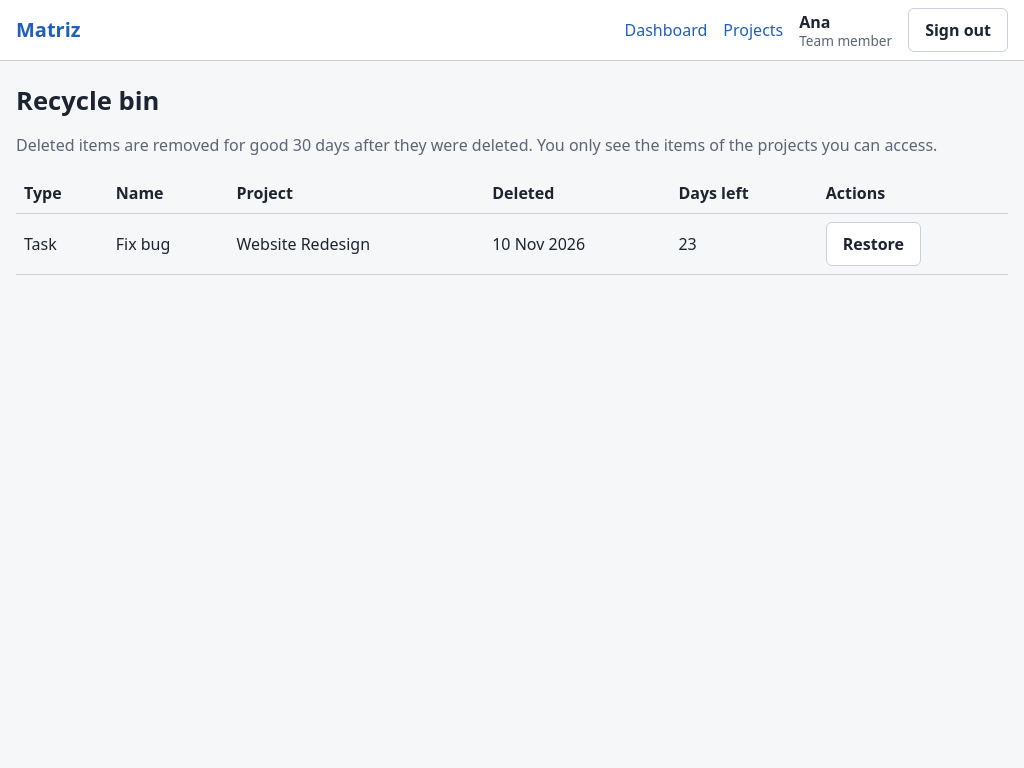
restoring a task whose people left the project (P36, A42) › shows who left, as the API says, and the people of the project of that item to choose from
Expected: the heading "Recycle bin" is shown, x1=16 y1=83 x2=159 y2=118
Click the button named "Restore Fix bug" at point(873, 244), box x1=826 y1=222 x2=921 y2=266
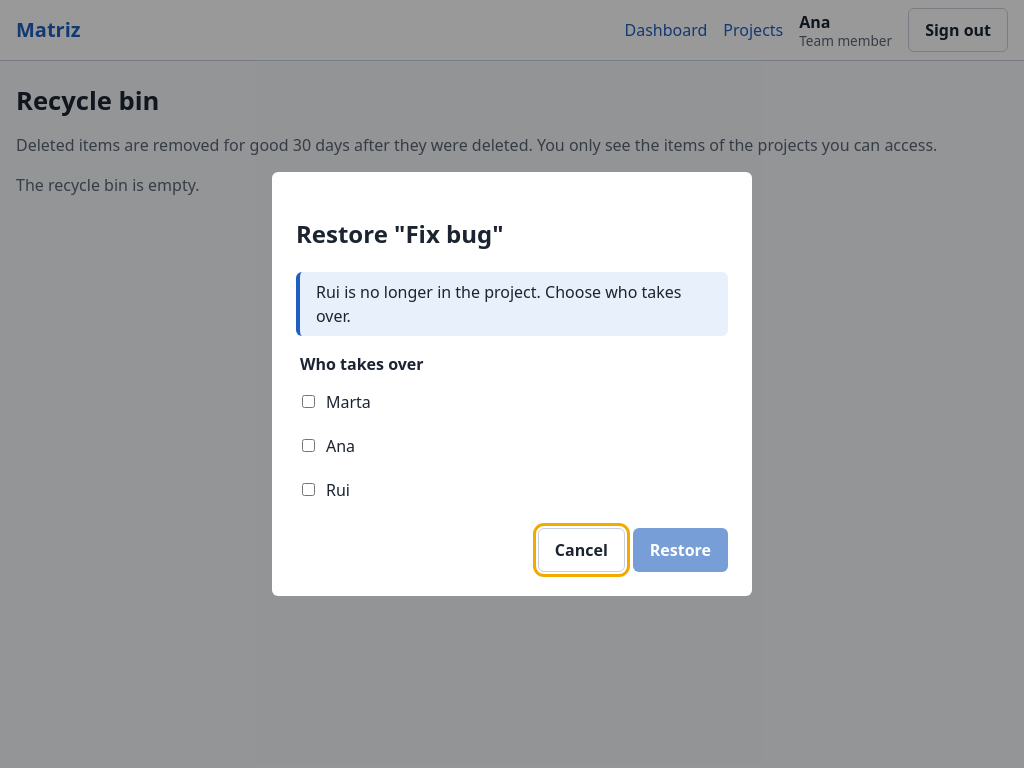
Now the text "Rui is no longer in the project. Choose who takes over." is shown, box x1=296 y1=272 x2=728 y2=336
Now the checkbox labelled "Ana" is shown, box x1=302 y1=439 x2=315 y2=452
Now the number of checkboxes is 3, box x1=302 y1=395 x2=315 y2=408; x1=302 y1=439 x2=315 y2=452; x1=302 y1=483 x2=315 y2=496
